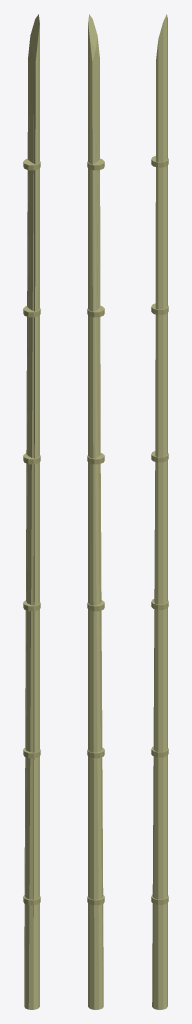
Rendered from takeyari.glb.
The picture shows the model from 3 angles, left to right: view 1: azimuth 30°, elevation 25°; view 2: azimuth 150°, elevation 25°; view 3: azimuth 330°, elevation 25°; orthographic projection.
Visible parts, largest first — view 1: take, fushi; view 2: take, fushi; view 3: take, fushi.
Boxes of the visible parts, left/top/right/bottom form: take: left=24, top=14, right=39, bottom=1009; fushi: left=23, top=159, right=40, bottom=905; take: left=88, top=14, right=103, bottom=1009; fushi: left=87, top=158, right=104, bottom=905; take: left=152, top=14, right=167, bottom=1009; fushi: left=151, top=156, right=168, bottom=904.
Size of the model in its own units: 0.038 by 2.36 by 0.0361.
